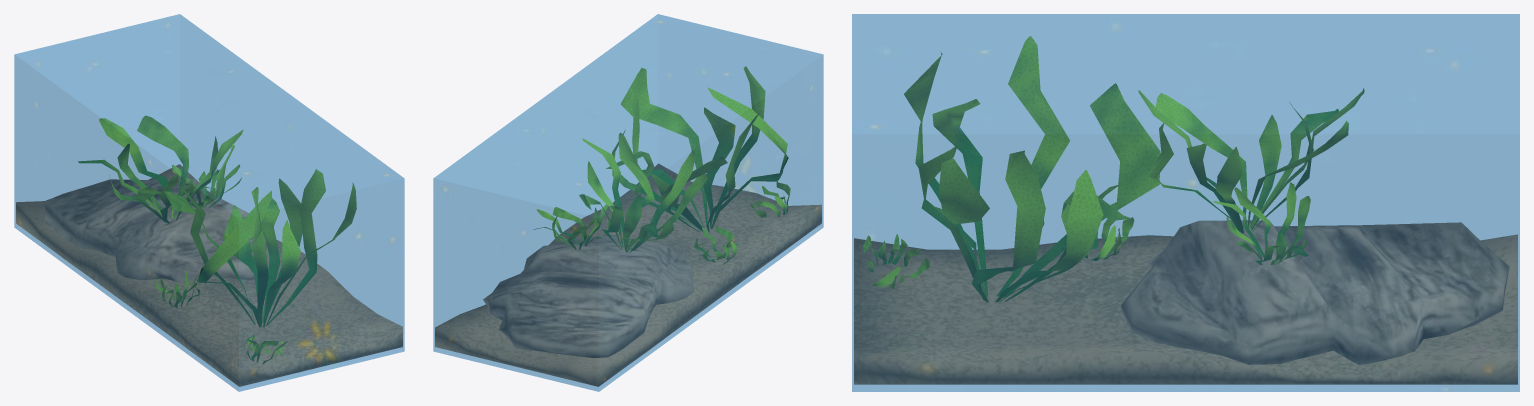
File: aquarium.glb
3 views of the same model, side by side, from view 1: azimuth 30°, elevation 25°; view 2: azimuth 150°, elevation 25°; view 3: azimuth 270°, elevation 25° (orthographic). The views are drawn at different scales.
Visible parts, largest first — view 1: Aquarium_Aquarium_0, Dirt_Dirt_0, Root_Root_0, Algae2_Algae 1_0, Algae1_Algae 2_0; view 2: Aquarium_Aquarium_0, Dirt_Dirt_0, Root_Root_0, Algae2_Algae 1_0, Algae1_Algae 2_0; view 3: Aquarium_Aquarium_0, Dirt_Dirt_0, Root_Root_0, Algae2_Algae 1_0, Algae1_Algae 2_0.
Boxes of the visible parts, left/top/right/bottom form: Aquarium_Aquarium_0: left=14, top=14, right=404, bottom=391; Dirt_Dirt_0: left=16, top=164, right=402, bottom=386; Root_Root_0: left=44, top=179, right=269, bottom=283; Algae2_Algae 1_0: left=155, top=169, right=356, bottom=363; Algae1_Algae 2_0: left=78, top=115, right=242, bottom=223; Aquarium_Aquarium_0: left=433, top=14, right=823, bottom=391; Dirt_Dirt_0: left=435, top=163, right=821, bottom=386; Root_Root_0: left=483, top=235, right=694, bottom=357; Algae2_Algae 1_0: left=606, top=66, right=790, bottom=264; Algae1_Algae 2_0: left=534, top=133, right=706, bottom=252; Aquarium_Aquarium_0: left=852, top=14, right=1519, bottom=391; Dirt_Dirt_0: left=854, top=234, right=1517, bottom=384; Root_Root_0: left=1120, top=220, right=1509, bottom=364; Algae2_Algae 1_0: left=862, top=36, right=1160, bottom=302; Algae1_Algae 2_0: left=1138, top=88, right=1364, bottom=265.
Size of the model in its own units: 202 by 200 by 470.
Materials: 5 (5 with a texture image).
